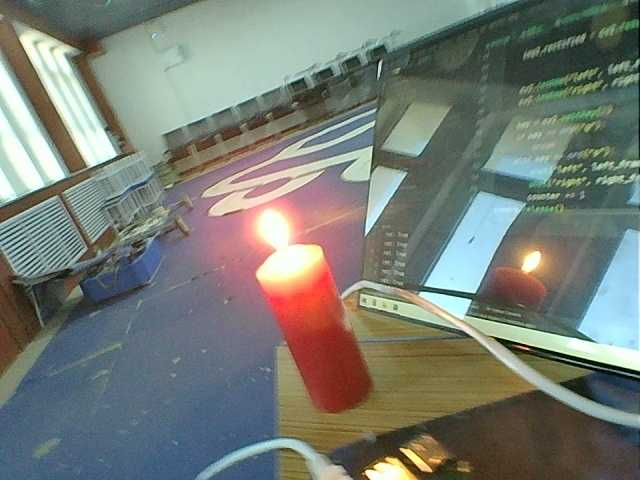candle: (243, 257, 381, 419)
fire: (242, 202, 304, 253), (514, 246, 545, 275)
